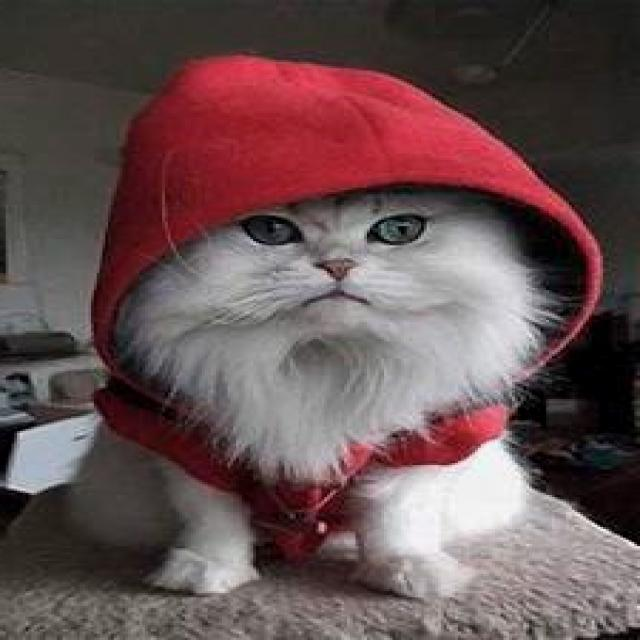KEDI: (128, 194, 550, 599)
